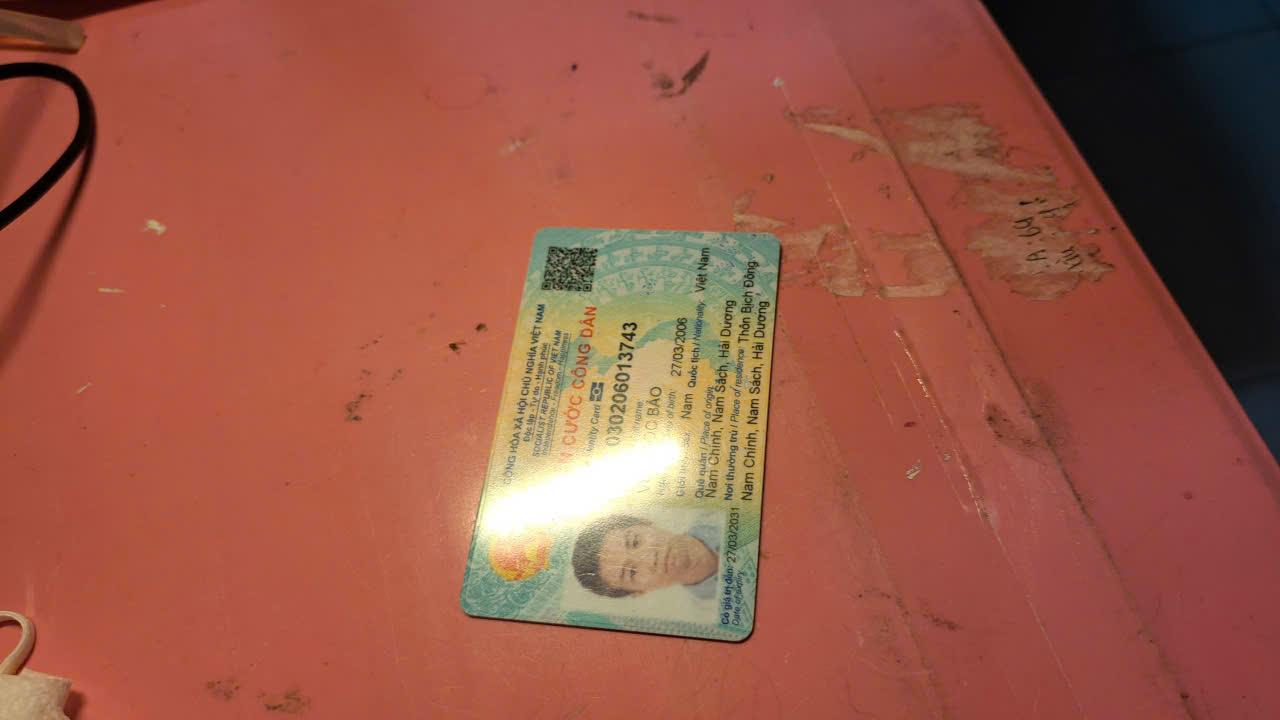cccd: (456, 218, 786, 656)
